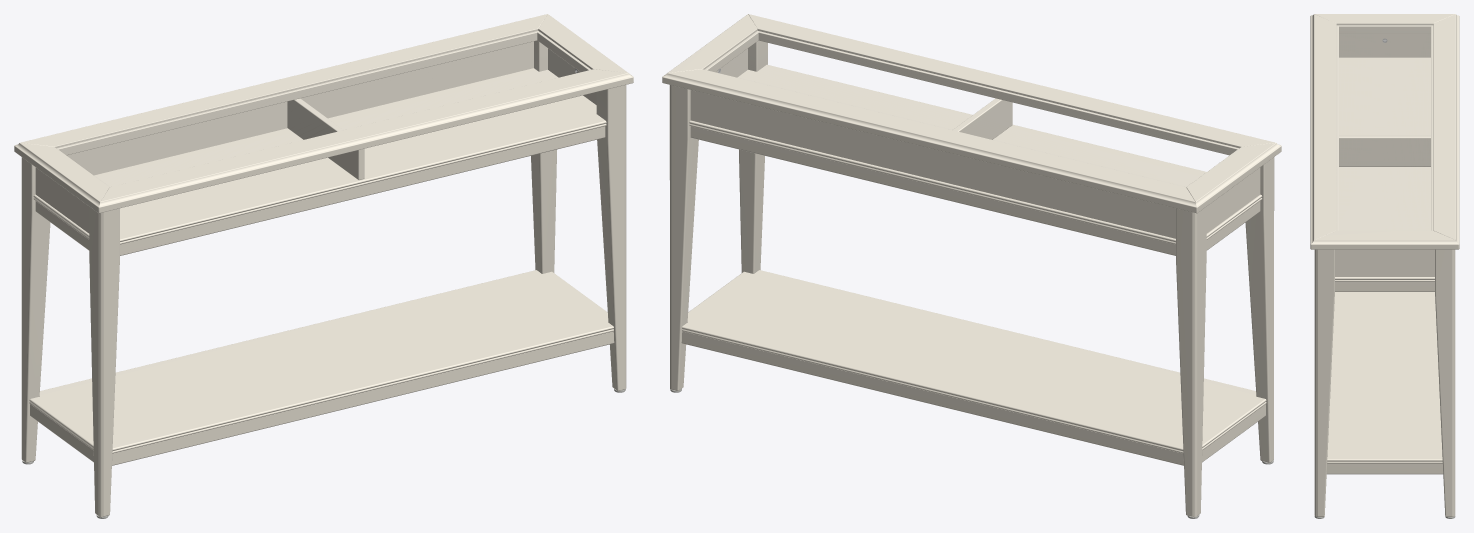
The model's file is Liatorp.glb.
The picture shows the model from 3 angles, left to right: view 1: azimuth 30°, elevation 25°; view 2: azimuth 150°, elevation 25°; view 3: azimuth 270°, elevation 25°; orthographic projection. The views are drawn at different scales.
Size of the model in its own units: 1.33 by 0.755 by 0.365.
2 materials, 1 textured.
